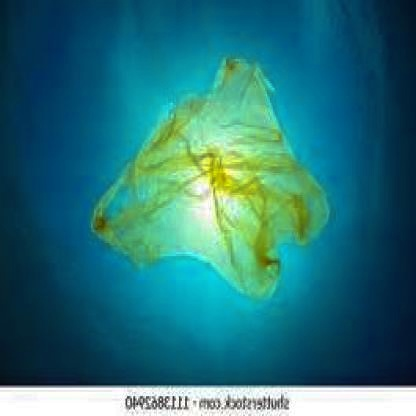pbag: (90, 55, 330, 300)
